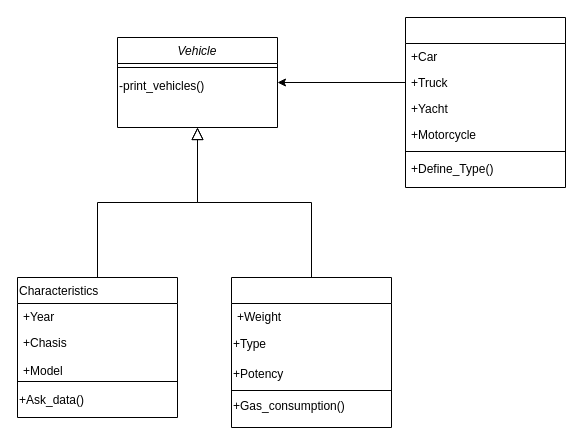
Image size: 583x445. Some labels were removed from this diagram. The box of each missing label's shape, as (x1, y1, x2, y2) in pixels:
Engine: (230, 276, 392, 428)
Type_Vehicle: (404, 16, 566, 188)
